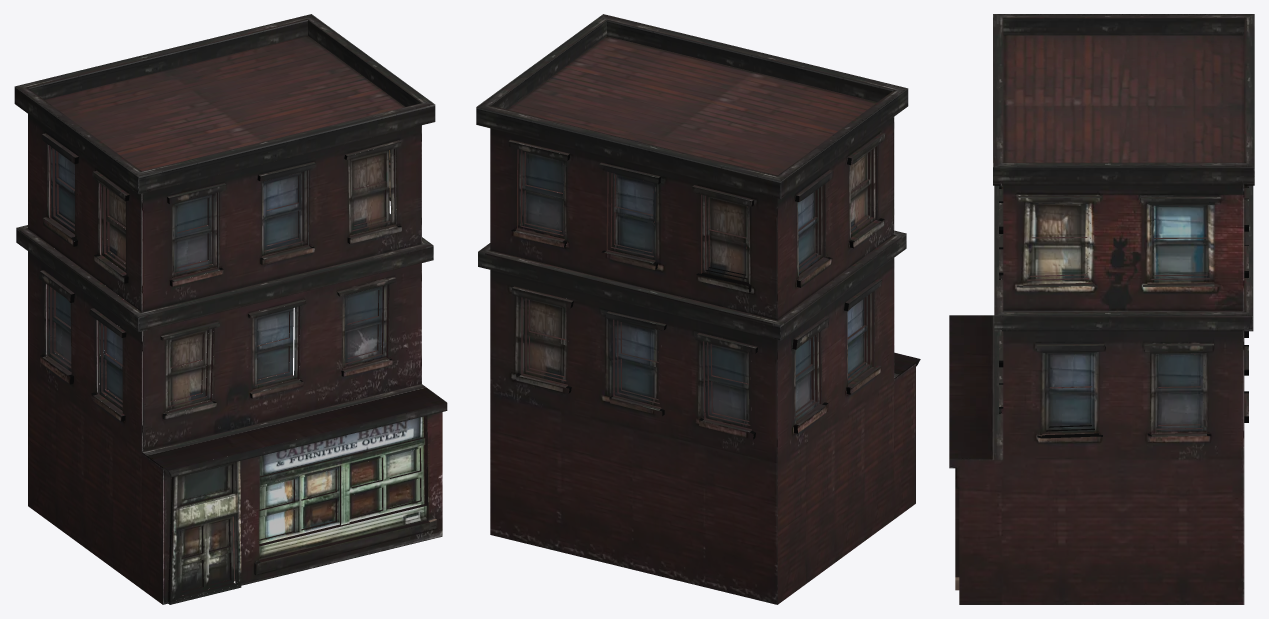
The model's file is old_building_1.glb.
3 renders of one model, left to right at view 1: azimuth 30°, elevation 25°; view 2: azimuth 150°, elevation 25°; view 3: azimuth 270°, elevation 25°, orthographic. The views are drawn at different scales.
Parts seen in each view (by area): view 1: Cube_Material.003_0, Cube_Material.006_0, Cube_Material.007_0; view 2: Cube_Material.004_0, Cube_Material.006_0, Cube_Material.007_0, Cube_Material.003_0; view 3: Cube_Material.005_0, Cube_Material.007_0, Cube_Material.003_0.
Boxes of the visible parts, x1,y1,x2,y2 form: Cube_Material.003_0: (28, 20, 447, 604); Cube_Material.006_0: (14, 20, 428, 604); Cube_Material.007_0: (15, 14, 446, 600); Cube_Material.004_0: (476, 20, 893, 604); Cube_Material.006_0: (490, 20, 915, 604); Cube_Material.007_0: (477, 14, 920, 432); Cube_Material.003_0: (511, 154, 920, 439); Cube_Material.005_0: (949, 18, 1254, 604); Cube_Material.007_0: (949, 14, 1254, 577); Cube_Material.003_0: (955, 198, 1248, 590).
Bounding box in the file's own units: 453 × 609 × 381.
Materials: 6 (6 with a texture image).
